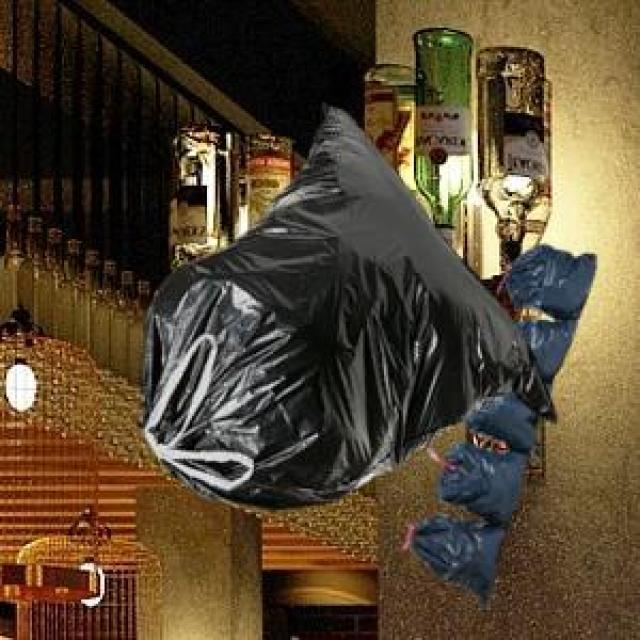Trashbag: (143, 108, 450, 510), (410, 515, 507, 602), (505, 240, 596, 321), (439, 445, 532, 522)
